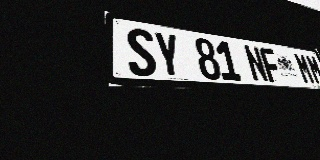1: (213, 40, 242, 81)
8: (193, 37, 222, 80)
F: (258, 47, 284, 83)
M: (293, 52, 316, 85), (304, 54, 320, 85)
N: (243, 45, 269, 82)
S: (125, 27, 158, 77)
Y: (153, 31, 184, 78)
